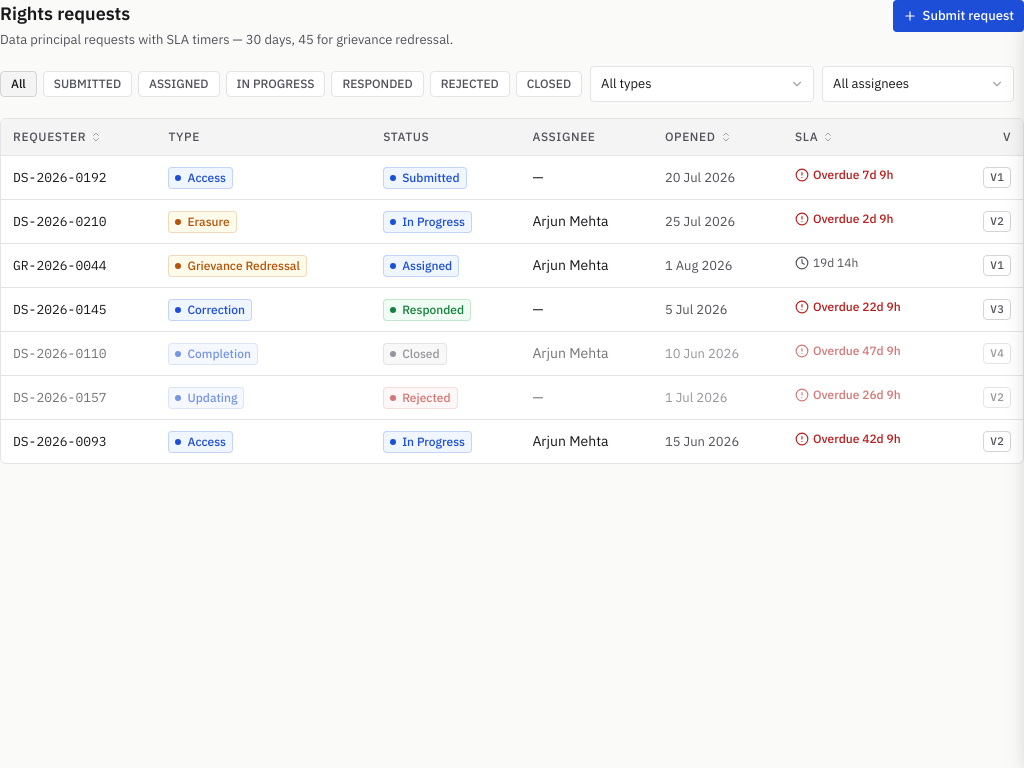
it: RightsView (§9.6) › opens the detail drawer with the lifecycle stepper and status-gated actions
This screenshot has width=1024, height=768.
Click the text "DS-2026-0192" at (60, 177), box top-left (13, 169), bottom-right (107, 186)
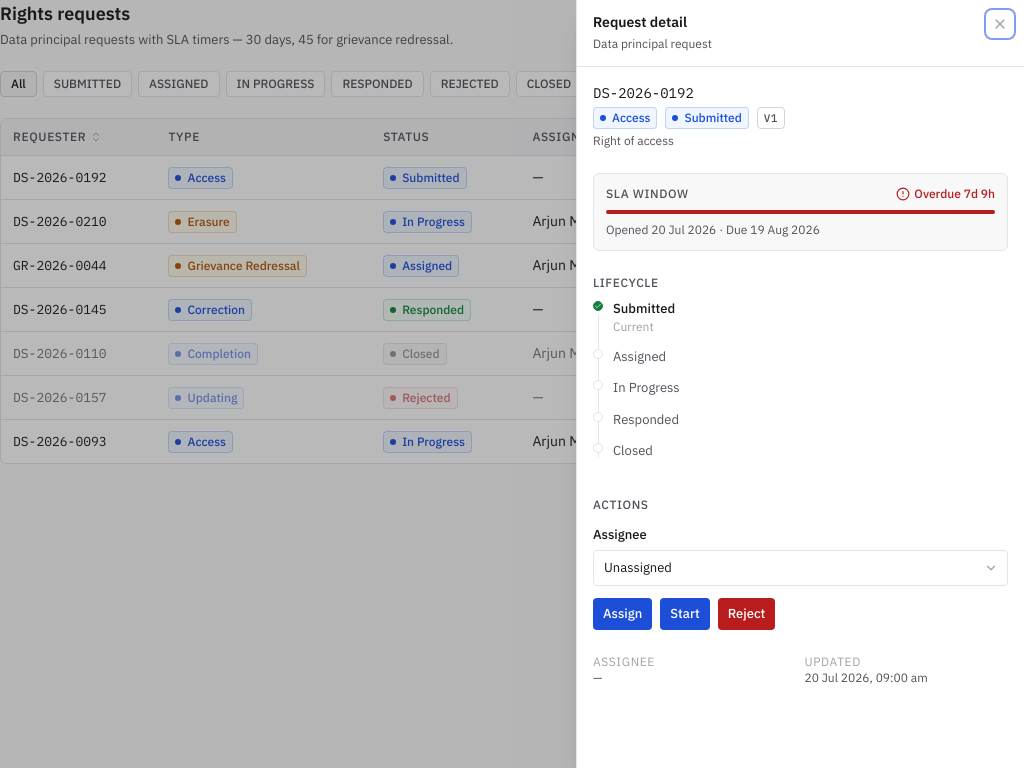
Now the text "DS-2026-0192" is shown, box top-left (593, 84), bottom-right (694, 102)
Now the text "Current" is shown, box top-left (613, 318), bottom-right (654, 334)
Now the dropdown labelled "Assignee" is shown, box top-left (593, 550), bottom-right (1008, 586)
